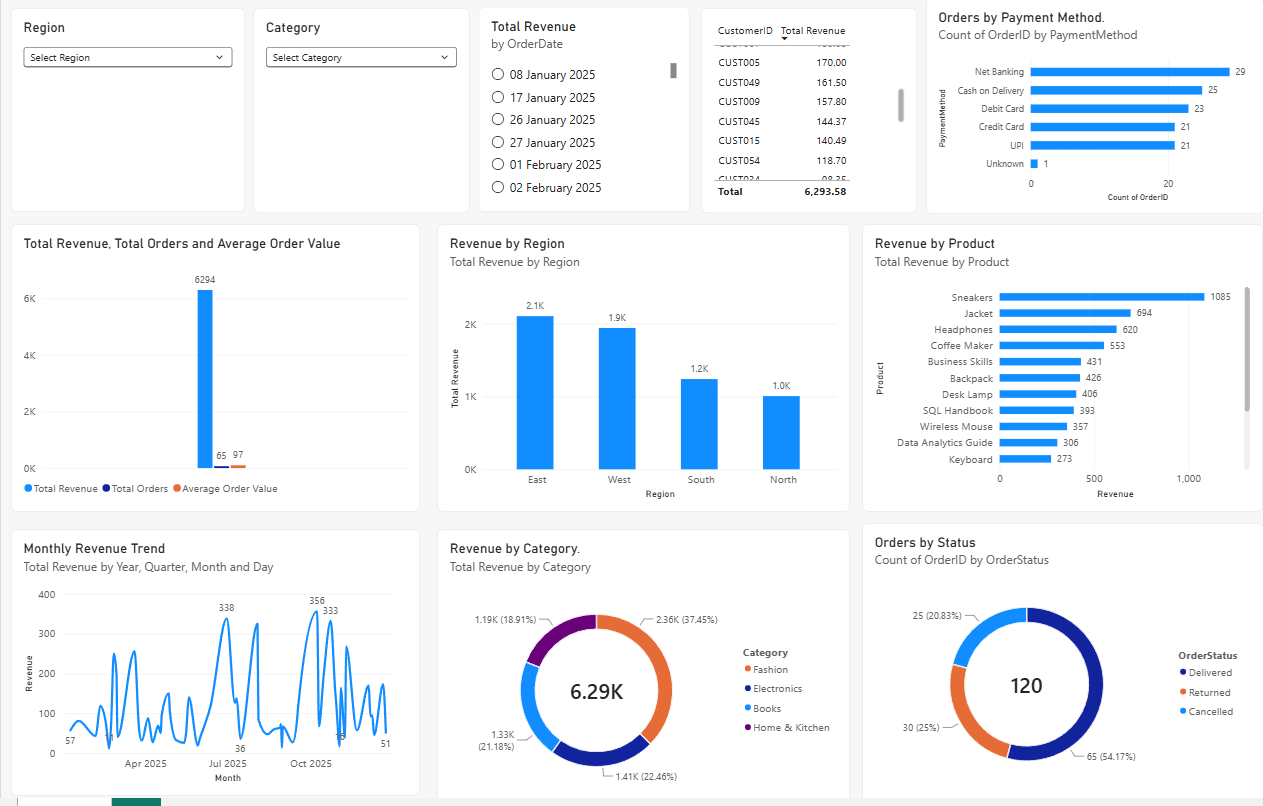

The dashboard page shown, as its layout file describes it:
{"tool":"powerbi","page":{"name":"Page 1","canvas":[1920,1080],"ordinal":0},"visuals":[{"type":"clusteredColumnChart","fields":{"Y":["Sales.Total Revenue","Sales.Total Orders","Sales.Average Order Value"]},"box":[13.3,301.7,545.7,382.9],"z":0},{"type":"lineChart","title":"Monthly Revenue Trend","fields":{"Category":["Sales.OrderDate.Variation.Date Hierarchy.Year","Sales.OrderDate.Variation.Date Hierarchy.Quarter","Sales.OrderDate.Variation.Date Hierarchy.Month","Sales.OrderDate.Variation.Date Hierarchy.Day"],"Y":["Sales.Total Revenue"]},"box":[13.3,708.3,545,355],"z":1000},{"type":"clusteredBarChart","title":"Revenue by Product","fields":{"Category":["Sales.Product"],"Y":["Sales.Total Revenue"]},"box":[1148.3,301.7,534.3,382.9],"z":2000},{"type":"clusteredColumnChart","title":"Revenue by Region","fields":{"Category":["Sales.Region"],"Y":["Sales.Total Revenue"]},"box":[581.7,301.7,550,383.3],"z":3000},{"type":"donutChart","title":"Revenue by Category.","fields":{"Category":["Sales.Category"],"Y":["Sales.Total Revenue"]},"box":[581.7,708.3,550,371.7],"z":4000},{"type":"donutChart","title":"Orders by Status","fields":{"Category":["Sales.OrderStatus"],"Y":["CountNonNull(Sales.OrderID)"]},"box":[1148.3,700,535,371.7],"z":5000},{"type":"clusteredBarChart","title":"Orders by Payment Method.","fields":{"Category":["Sales.PaymentMethod"],"Y":["CountNonNull(Sales.OrderID)"]},"box":[1233.3,0,450,288.3],"z":6000},{"type":"tableEx","fields":{"Values":["Sales.CustomerID","Sales.Total Revenue"]},"box":[933.3,13.3,288.3,273.3],"z":7000},{"type":"listSlicer","fields":{"Values":["Sales.Region"]},"box":[13.3,13.3,311.7,271.7],"z":7001},{"type":"listSlicer","fields":{"Values":["Sales.Category"]},"box":[336.7,13.3,288.3,273.3],"z":7002},{"type":"listSlicer","fields":{"Values":["Sales.OrderDate"]},"box":[636.7,11.7,281.7,273.3],"z":7003}]}

Visuals, with their boxes on the page's 1920x1080 design canvas (x1, y1, x2, y2). These are canvas units, not pixel positions in the 1263x806 screenshot, which may show the page scaled, cropped or inside an application window:
clusteredColumnChart - Sales.Total Revenue x Sales.Total Orders: <region>13, 302, 559, 685</region>
"Monthly Revenue Trend" lineChart: <region>13, 708, 558, 1063</region>
"Revenue by Product" clusteredBarChart: <region>1148, 302, 1683, 685</region>
"Revenue by Region" clusteredColumnChart: <region>582, 302, 1132, 685</region>
"Revenue by Category." donutChart: <region>582, 708, 1132, 1080</region>
"Orders by Status" donutChart: <region>1148, 700, 1683, 1072</region>
"Orders by Payment Method." clusteredBarChart: <region>1233, 0, 1683, 288</region>
tableEx - Sales.CustomerID x Sales.Total Revenue: <region>933, 13, 1222, 287</region>
listSlicer - Sales.Region: <region>13, 13, 325, 285</region>
listSlicer - Sales.Category: <region>337, 13, 625, 287</region>
listSlicer - Sales.OrderDate: <region>637, 12, 918, 285</region>
